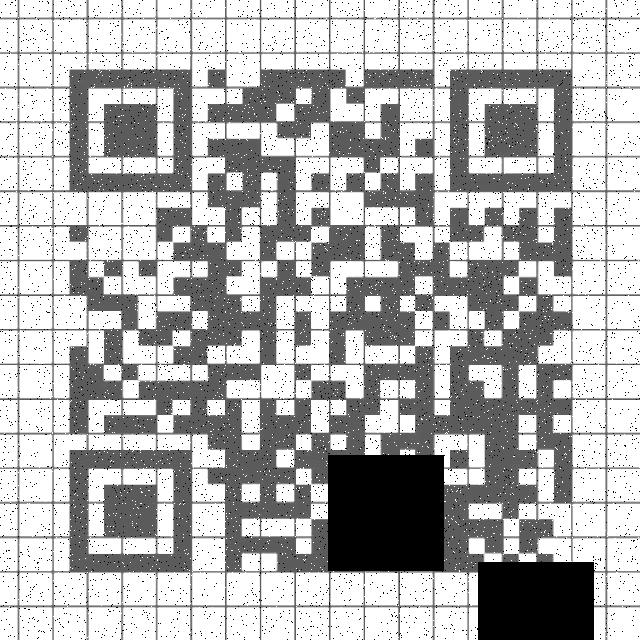QR_CODE: (49, 52, 589, 586)
